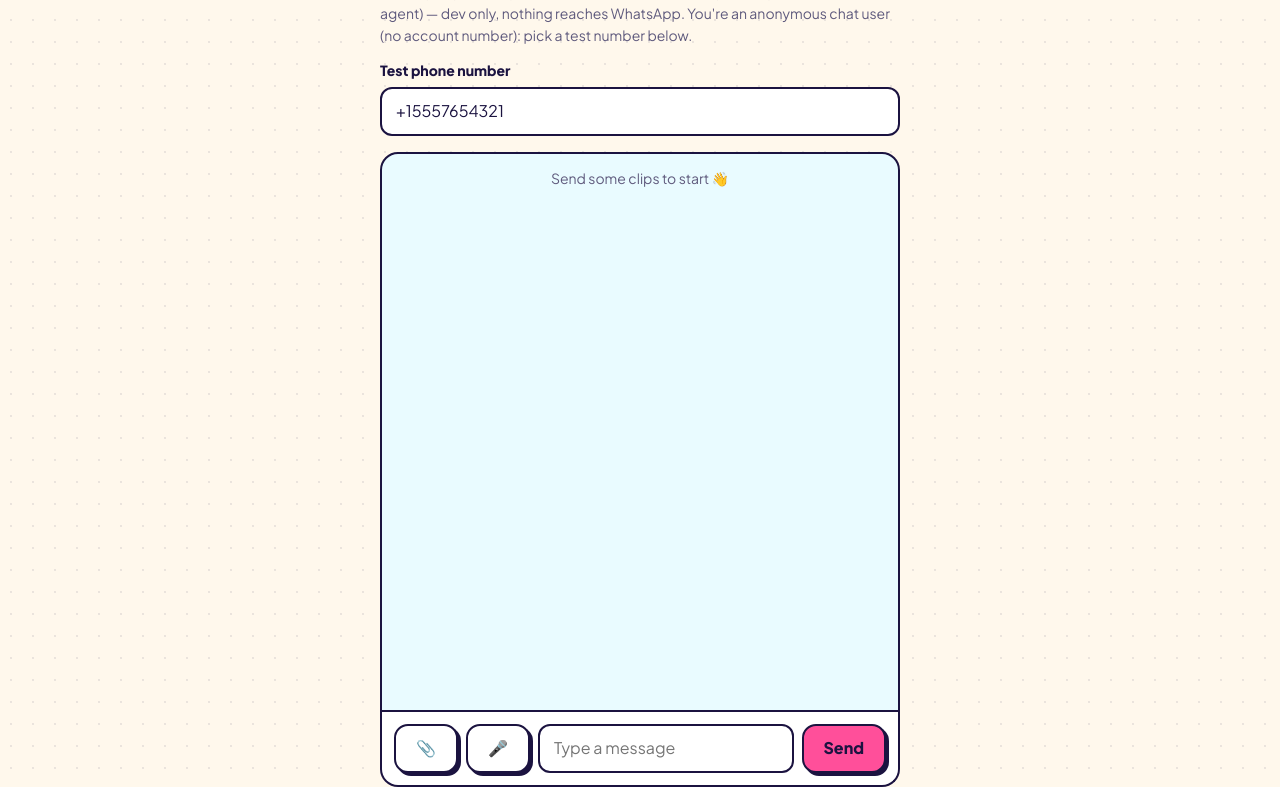
Test: WhatsApp simulator › shows send errors
(page scrolled)
Type "hi" into the field labelled "message". click: (666, 748)
box: [538,724,794,773]
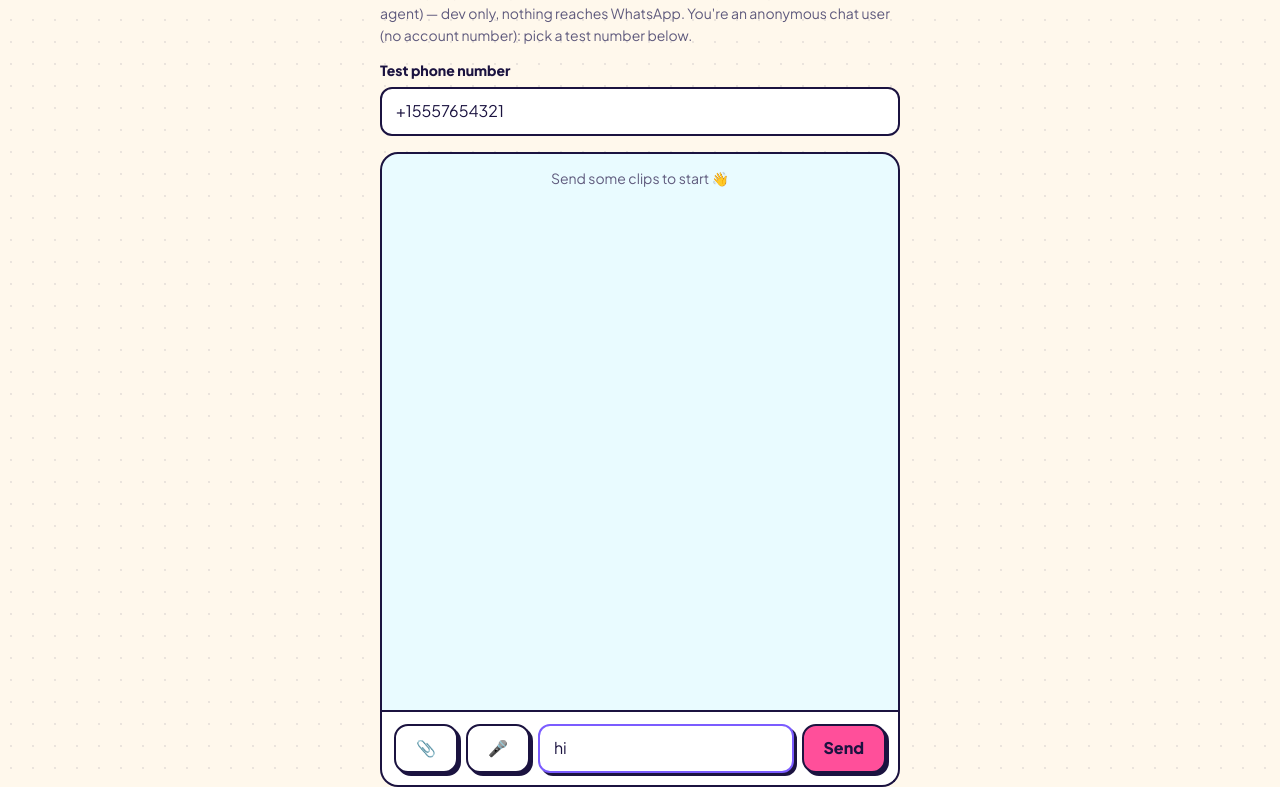
Click the button "Send". click: (844, 748)
box: [802,724,886,773]
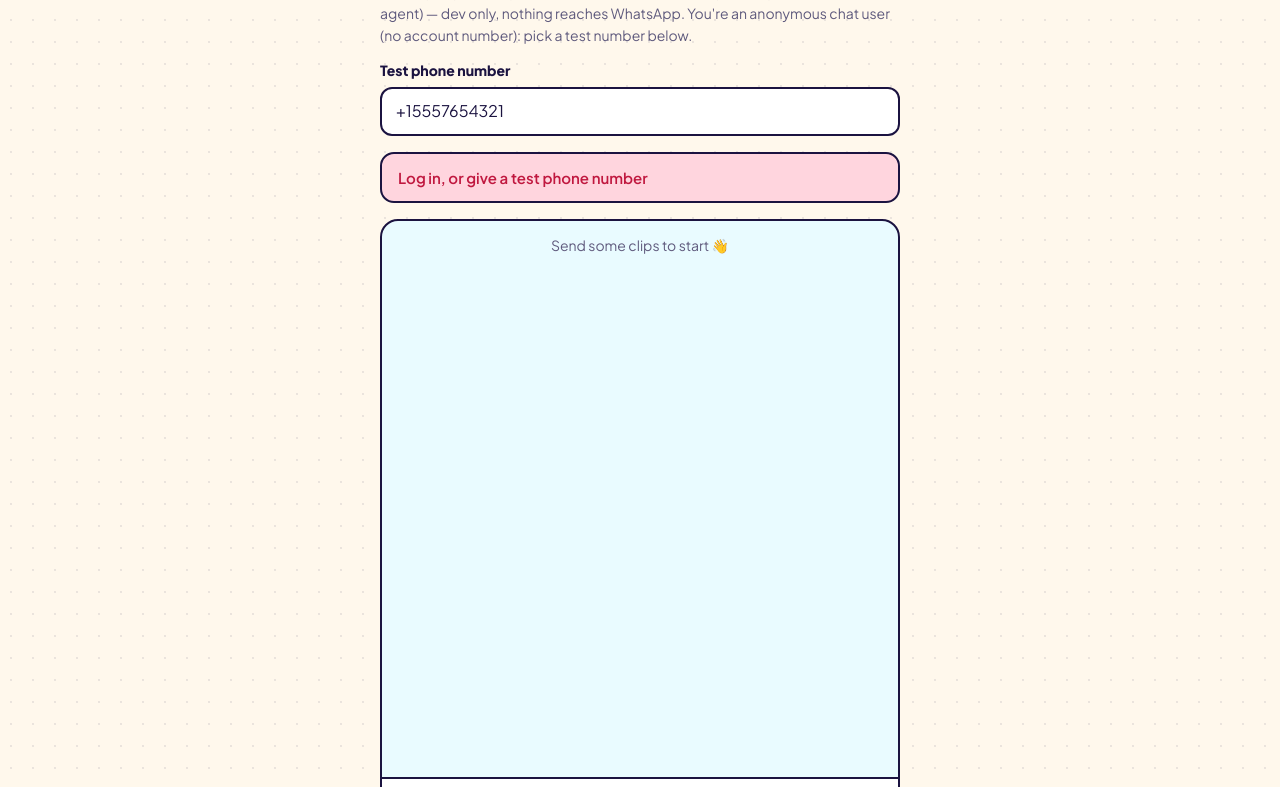
Result: the text "Log in, or give a test phone number" is shown at [380,152,900,203]
